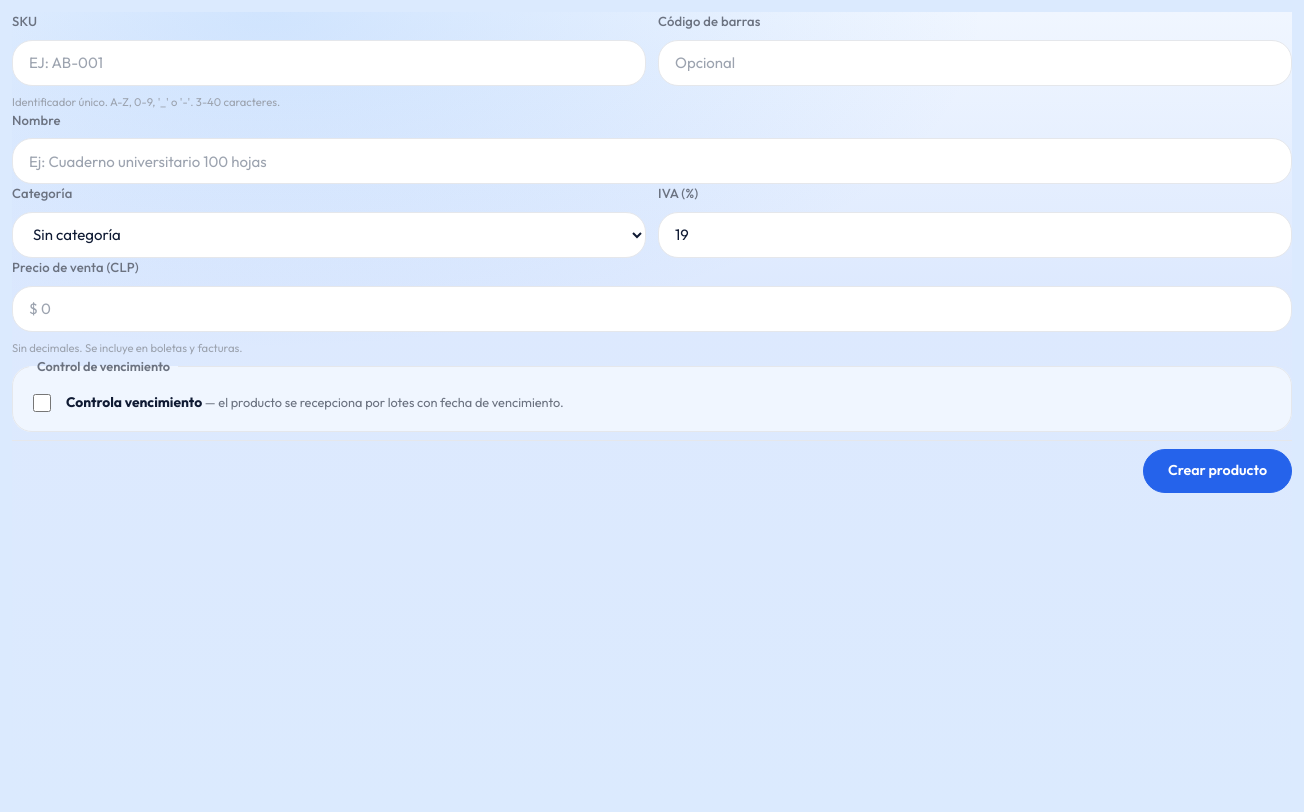
Test: ProductoForm — control de vencimiento › oculta el campo de días por defecto y lo muestra al activar el toggle
The width and height of the screenshot is (1304, 812).
Expected: the field labelled "días de alerta" is not shown
Click the checkbox labelled "Controla vencimiento".
click(42, 403)  # box [33, 394, 51, 412]
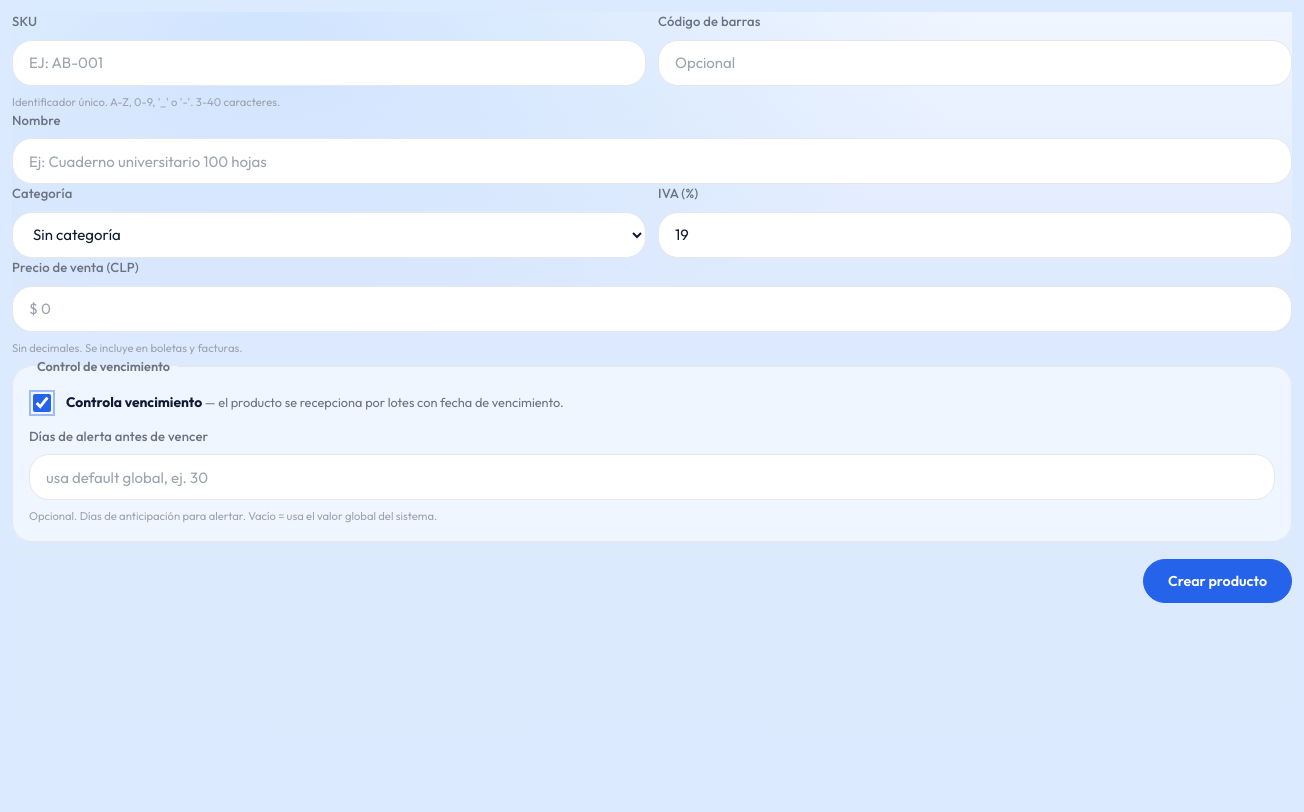
Result: the checkbox labelled "Controla vencimiento" is checked
Result: the number field labelled "Días de alerta antes de vencer" is shown at [30, 455, 1274, 499]
# Y se oculta de nuevo al desactivar.
Click the checkbox labelled "Controla vencimiento".
click(42, 403)  # box [33, 394, 51, 412]
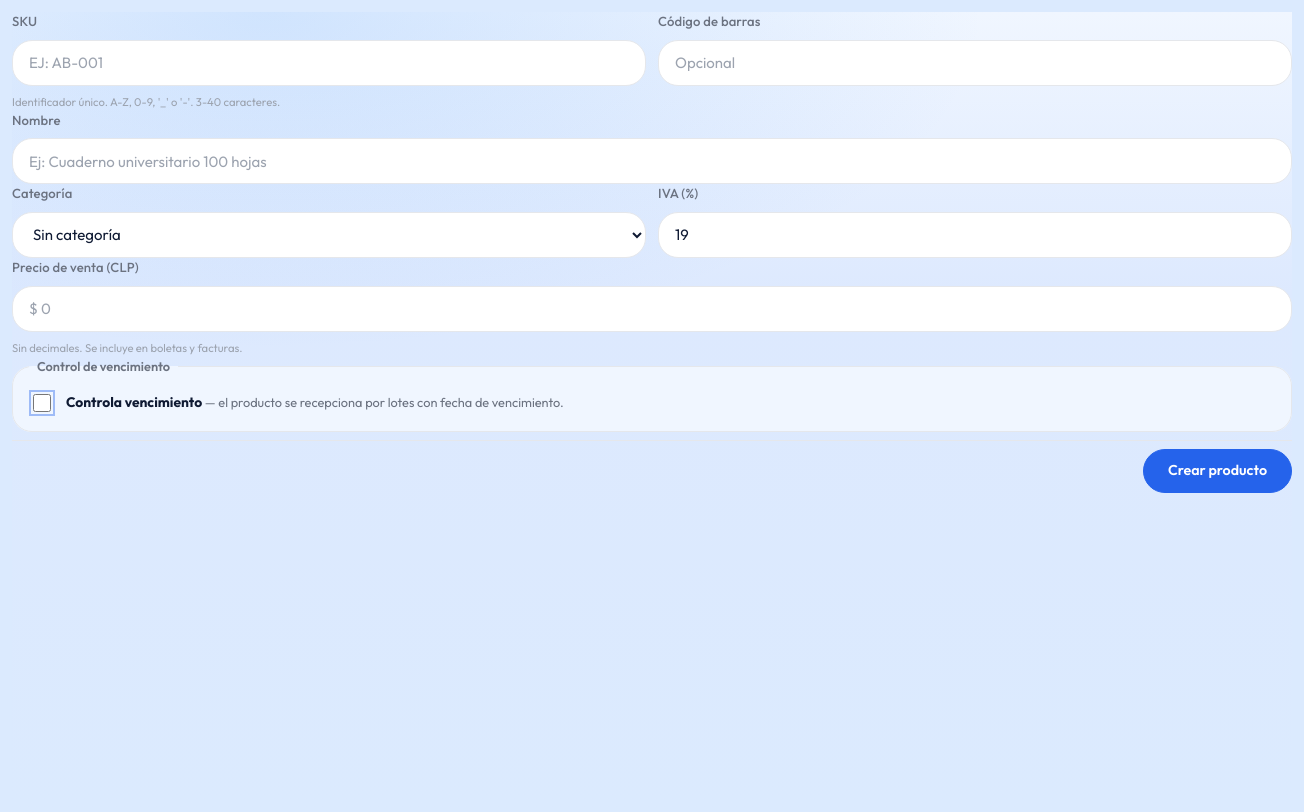
Result: the label labelled "Días de alerta" is gone
